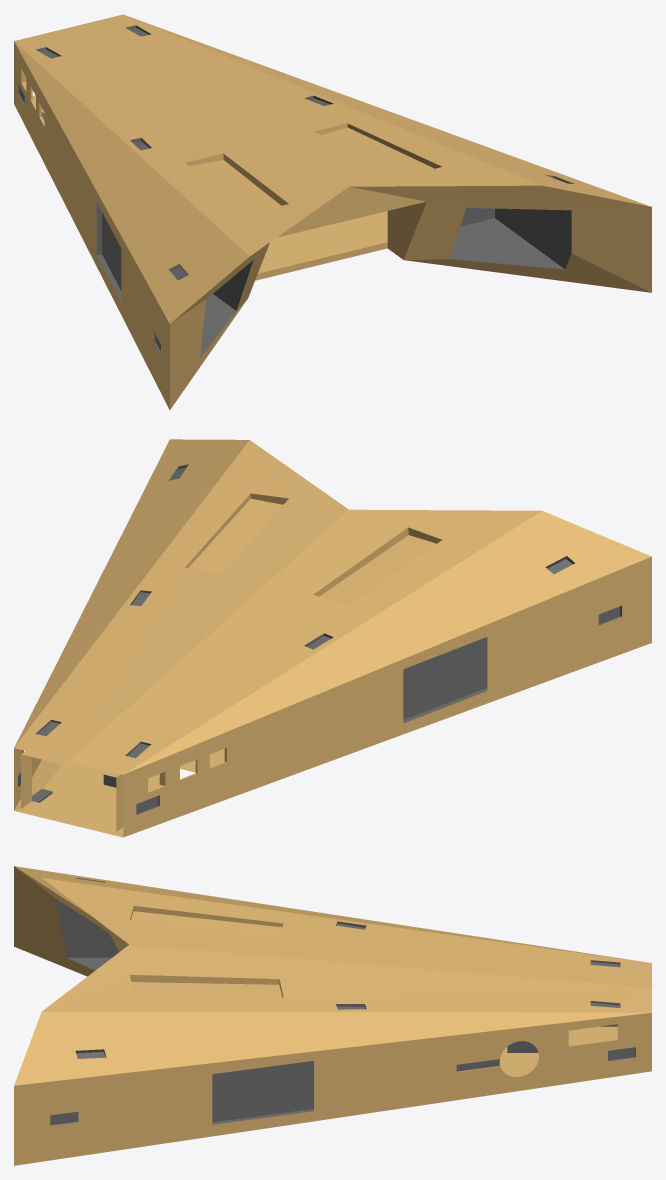
The model's file is Hull.glb.
The picture shows the model from 3 angles, top to bottom: view 1: azimuth 30°, elevation 25°; view 2: azimuth 150°, elevation 25°; view 3: azimuth 270°, elevation 25°; orthographic projection. The views are drawn at different scales.
Parts seen in each view (by area): view 1: Hull; view 2: Hull; view 3: Hull.
Boxes of the visible parts, x1=… form: Hull: x1=14, y1=14, x2=651, y2=409; Hull: x1=14, y1=439, x2=651, y2=837; Hull: x1=14, y1=866, x2=651, y2=1165.
Size of the model in its own units: 31.63 by 7.52 by 38.9.
